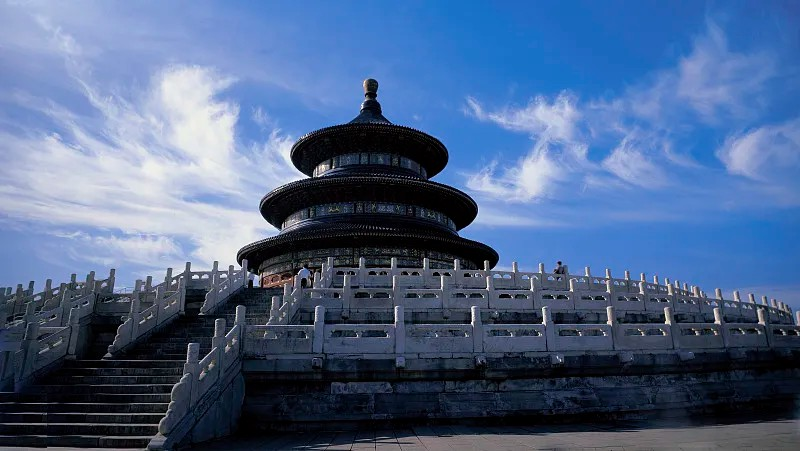Heaven: (234, 76, 498, 284)
